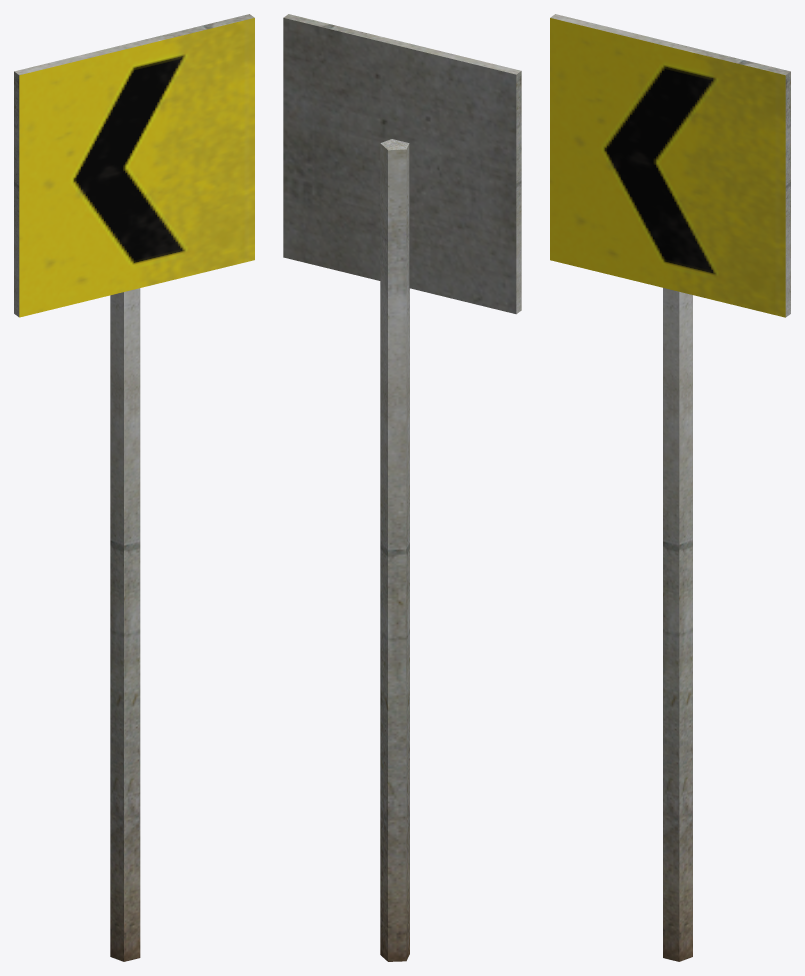
The model's file is square_left.fbx.
3 views of the same model, side by side, from view 1: azimuth 30°, elevation 25°; view 2: azimuth 150°, elevation 25°; view 3: azimuth 330°, elevation 25° (orthographic).
Parts seen in each view (by area): view 1: Plane.009; view 2: Plane.009; view 3: Plane.009.
Boxes of the visible parts, left/top/right/bottom form: Plane.009: left=14, top=14, right=254, bottom=961; Plane.009: left=283, top=14, right=521, bottom=961; Plane.009: left=550, top=14, right=790, bottom=961.
Size of the model in its own units: 129 by 479 by 16.98.
